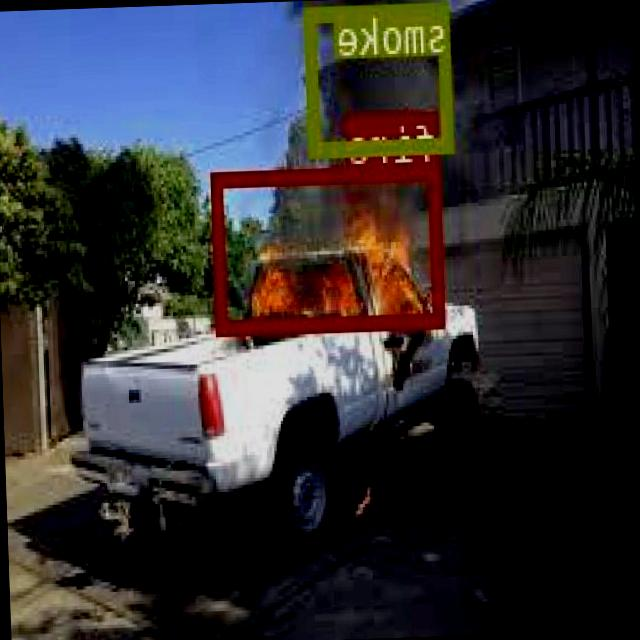fire: (214, 162, 447, 333)
smoke: (307, 0, 454, 152)
